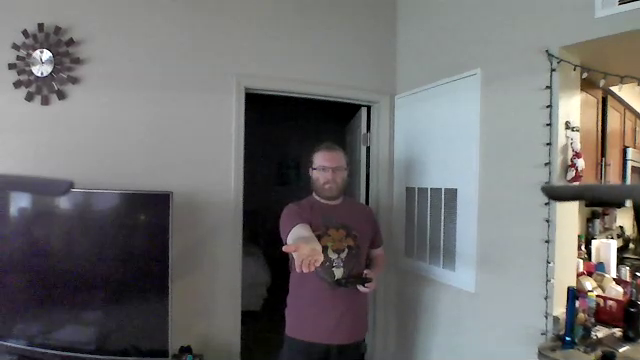land: (278, 241, 325, 275)
